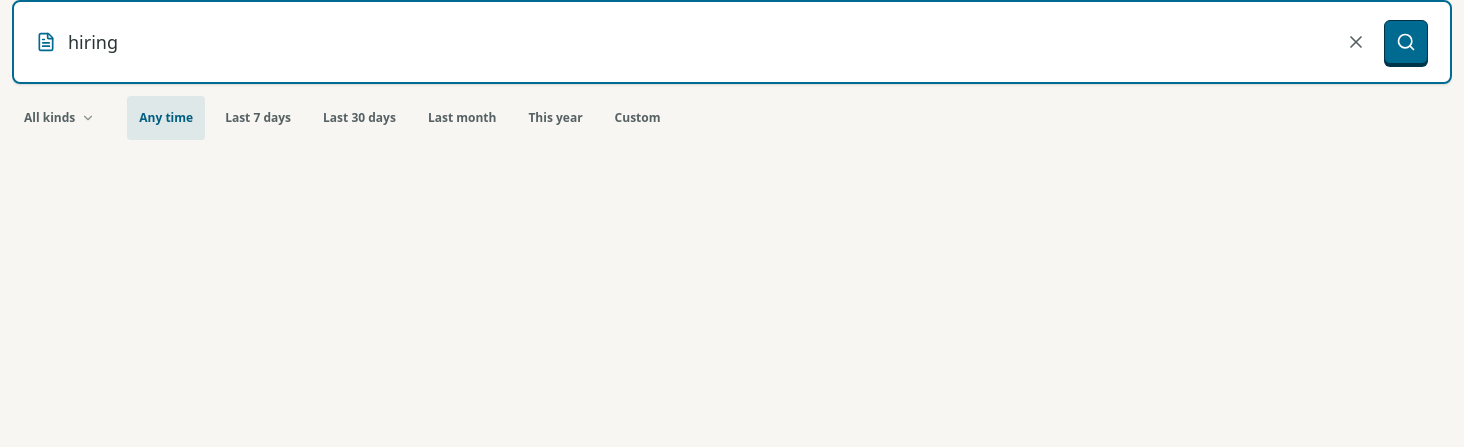
Scenario: InteractionSearchPanel › sends a preset as calendar dates and shows the custom fields on request
This screenshot has width=1464, height=447.
Click the button "Last 7 days". click: (258, 118)
box: left=213, top=96, right=303, bottom=140
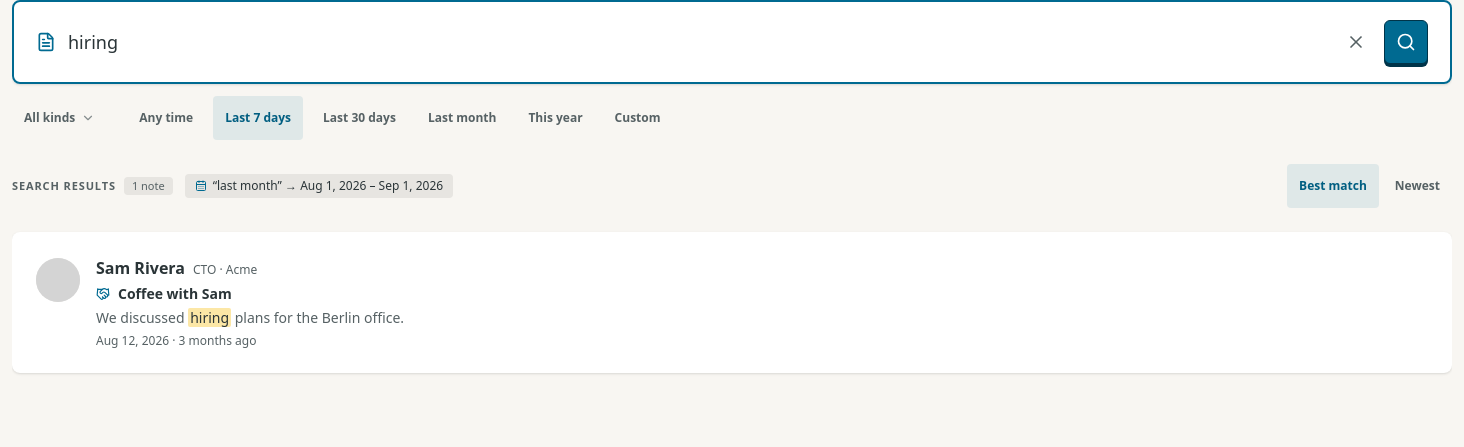
Expected: the button "Last 7 days" is pressed, left=213, top=96, right=303, bottom=140
Click the button "Custom". click: (638, 118)
box: left=603, top=96, right=672, bottom=140
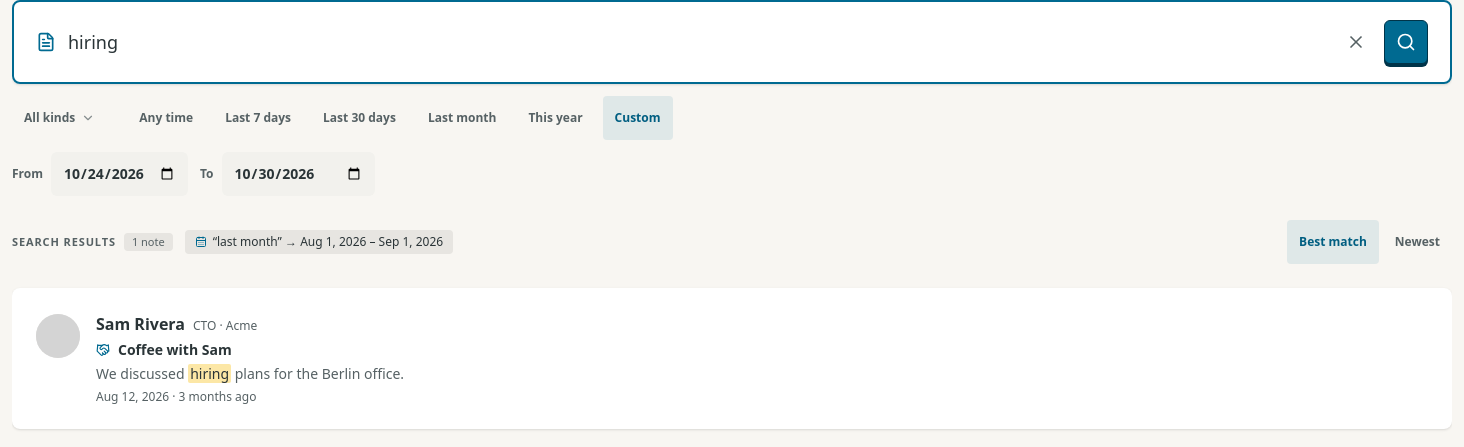
Expected: the date field labelled "From" is shown, left=51, top=152, right=188, bottom=196
Expected: the date field labelled "To" is shown, left=222, top=152, right=375, bottom=196
